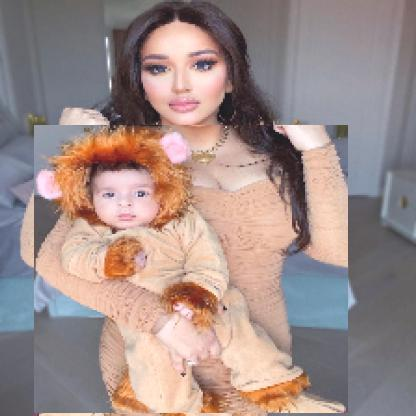child: (35, 126, 350, 415)
